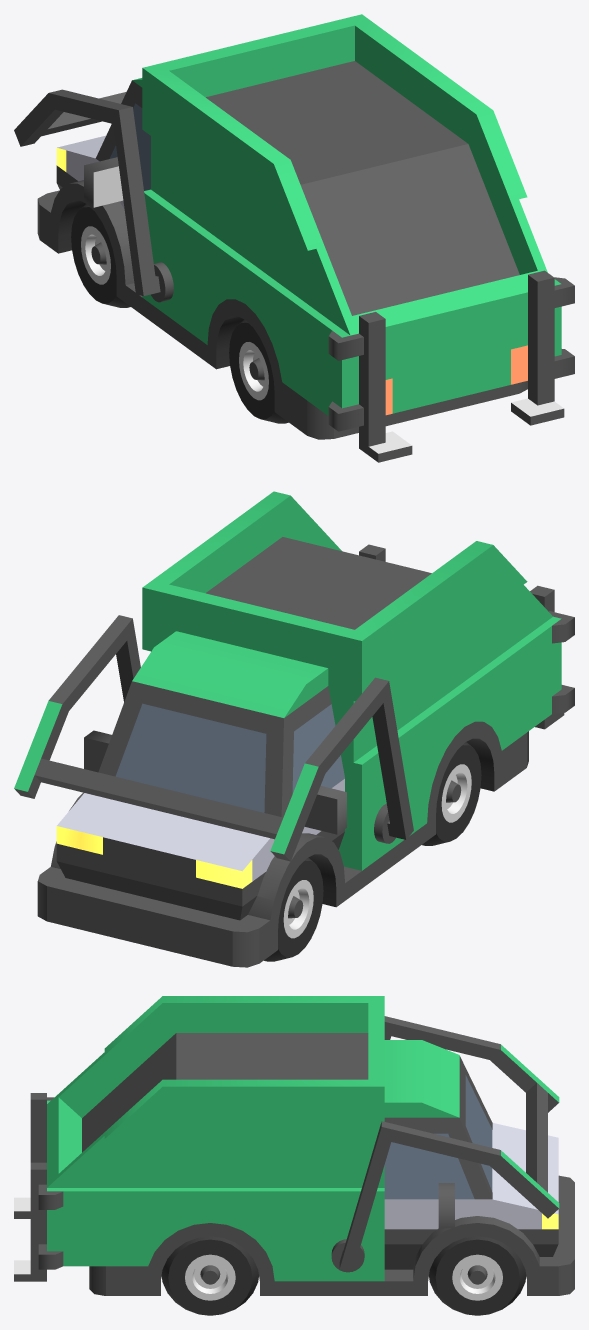
File: garbageTruck.glb
3 renders of one model, top to bottom at view 1: azimuth 30°, elevation 25°; view 2: azimuth 150°, elevation 25°; view 3: azimuth 270°, elevation 25°, orthographic. The views are drawn at different scales.
Parts seen in each view (by area): view 1: body, arm, wheel_backLeft, wheel_frontLeft; view 2: body, arm, wheel_frontLeft, wheel_backLeft; view 3: body, arm, wheel_backRight, wheel_frontRight.
Part boxes in pixels (x1,y1,x2,y2): body: (37,14,574,462); arm: (14,89,173,302); wheel_backLeft: (229,319,288,423); wheel_frontLeft: (71,204,130,307); body: (37,491,574,967); arm: (14,615,413,861); wheel_frontLeft: (264,857,323,961); wheel_backLeft: (422,742,481,845); body: (14,996,574,1295); arm: (331,1016,559,1272); wheel_backRight: (161,1236,258,1315); wheel_frontRight: (429,1236,526,1315).
Bounding box in the file's own units: 1.6 × 1.6 × 3.4.
